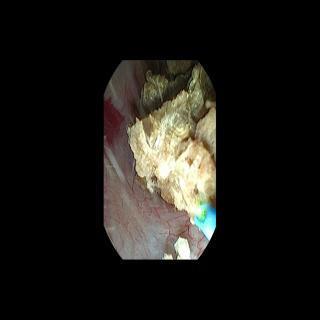fiber: (195, 206, 214, 238)
laser: (193, 203, 206, 219)
stone: (128, 63, 214, 219), (174, 239, 190, 259), (163, 253, 172, 258)
